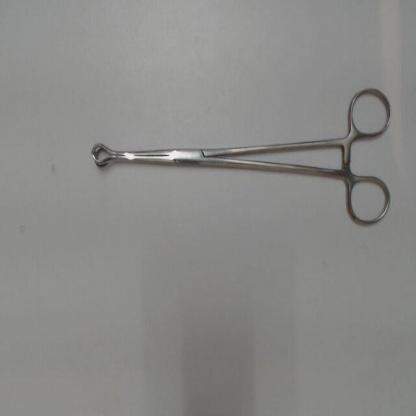8 Babcock Tissue Forceps: (85, 80, 395, 235)
